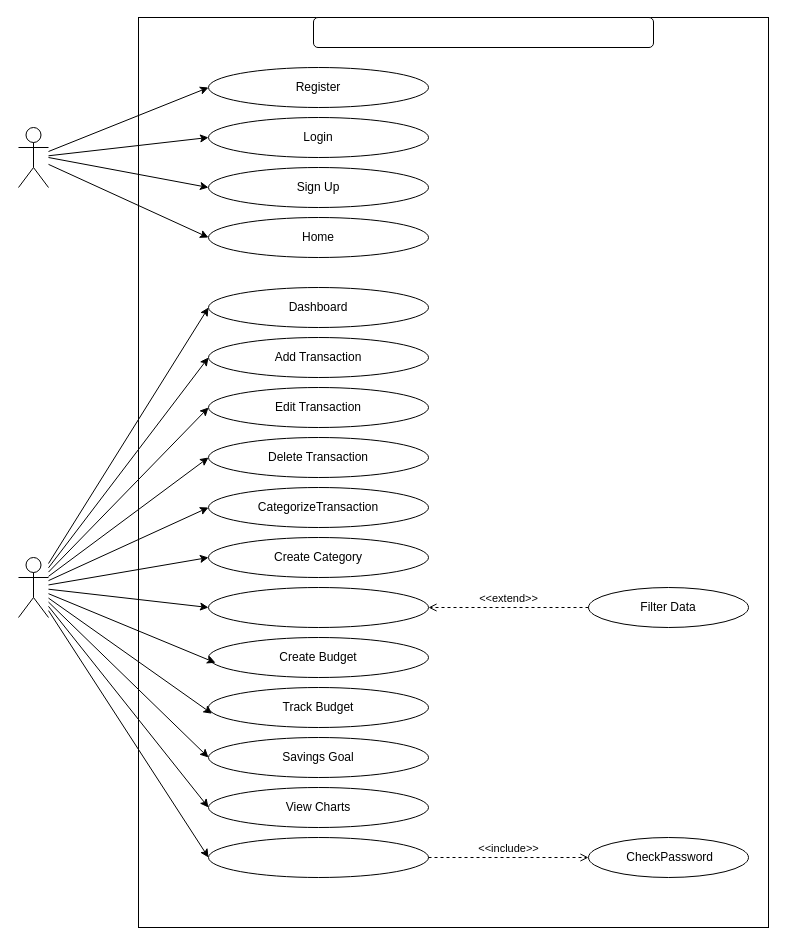
Image size: 786x945. Some labels were removed from this diagram. The shapes that lost their labels are listed below. From the top down, each one's box as (x1, y1, x2, y2) in pixels, then its label:
(312, 16, 654, 48): Application de gestion financière
(18, 126, 48, 188): Guest
(18, 556, 48, 618): User
(208, 586, 428, 628): ExportCSV
(208, 836, 428, 878): Edit Profile
